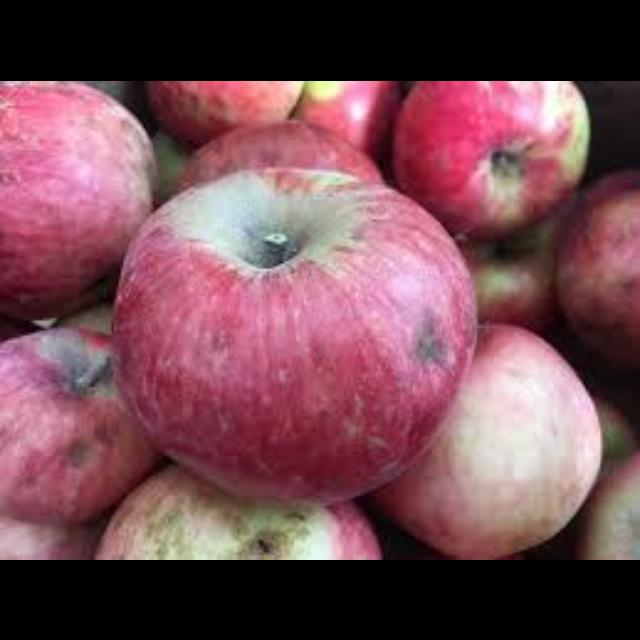apple: (114, 169, 474, 500), (368, 325, 600, 557), (0, 80, 153, 317), (393, 80, 588, 238), (0, 327, 158, 520), (96, 463, 381, 557), (146, 80, 301, 144)
bruise: (411, 311, 454, 372), (61, 438, 102, 483)
pest: (231, 522, 295, 557)
